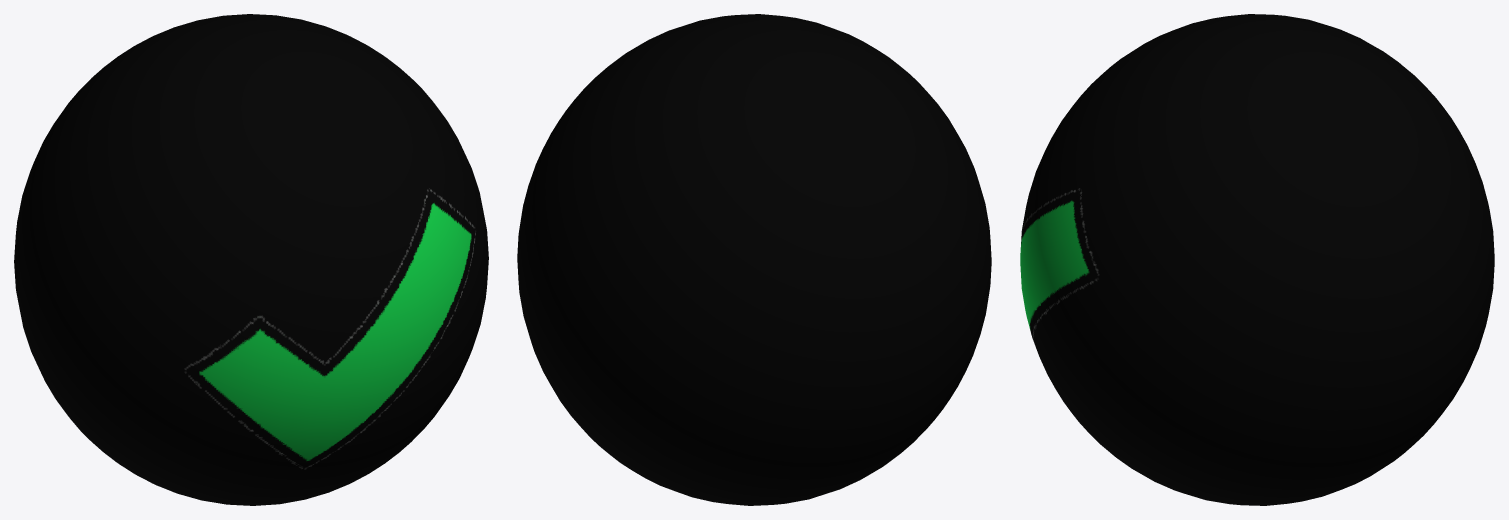
The model's file is tickglb.glb.
3 views of the same model, side by side, from view 1: azimuth 30°, elevation 25°; view 2: azimuth 150°, elevation 25°; view 3: azimuth 270°, elevation 25° (orthographic).
Parts seen in each view (by area): view 1: node_id5; view 2: node_id5; view 3: node_id5.
Part boxes in pixels (bbox=[...]): node_id5: bbox=[14, 14, 488, 505]; node_id5: bbox=[517, 14, 991, 505]; node_id5: bbox=[1020, 14, 1494, 505].
Bounding box in the file's own units: 0.3762 × 0.3934 × 0.3762.
1 material, 1 textured.
